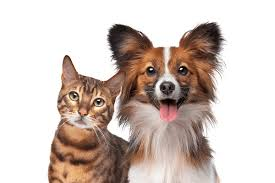cat: (48, 55, 124, 182)
dog: (108, 24, 222, 182)
